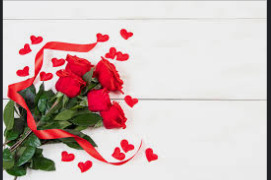RedRose: (94, 58, 129, 96), (100, 102, 131, 130), (61, 53, 93, 76), (56, 72, 84, 96), (86, 90, 112, 111)
